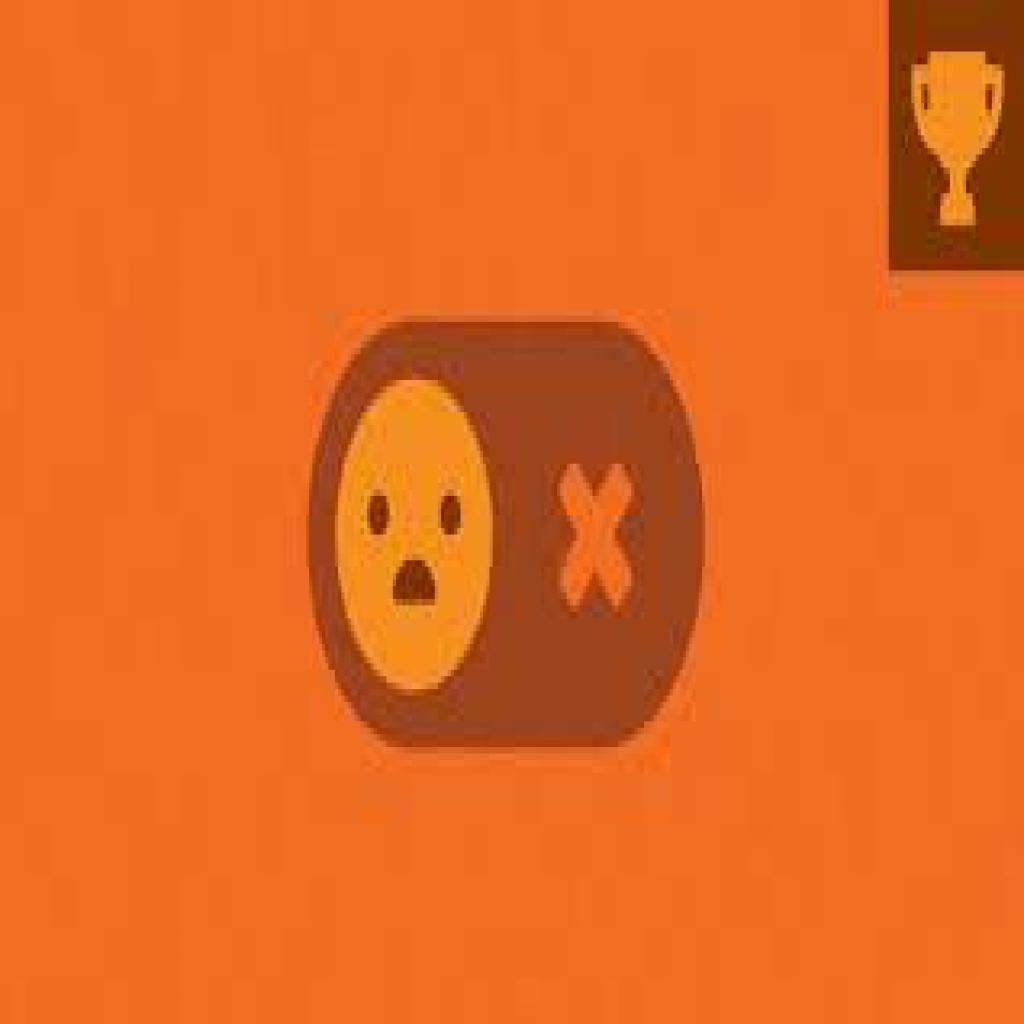switch: (307, 323, 706, 751)
